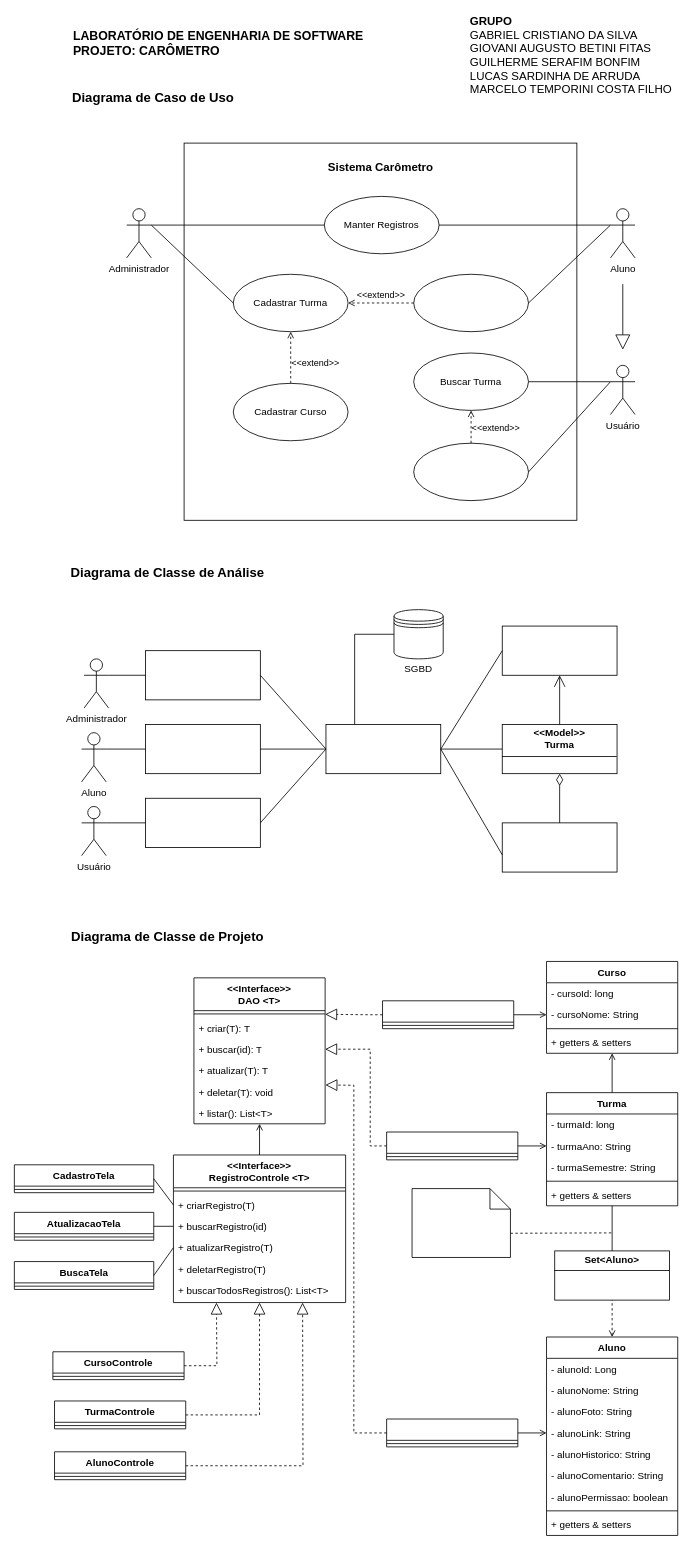
Image size: 699x1552. Some labels were removed from this diagram. The shapes that lost their labels are listed below. From the top down, each one's centre as x and y in pixels, then its label:
At [470,302]: "Cadastrar Aluno".
At [470,471]: "Buscar Aluno".
At [559,650]: "<<Model>> Curso".
At [202,675]: "<<View>> Cadastro Tela".
At [202,749]: "<<View>> Atualizacao Tela".
At [383,749]: "<<Controller>> Registro Controle".
At [202,822]: "<<View>> Busca Tela".
At [559,847]: "<<Model>> Aluno".
At [448,1014]: "CursoDAO".
At [452,1145]: "TurmaDAO".
At [460,1222]: "Relacionamento bi-direcional entre Turma e Aluno".
At [452,1432]: "AlunoDAO".
